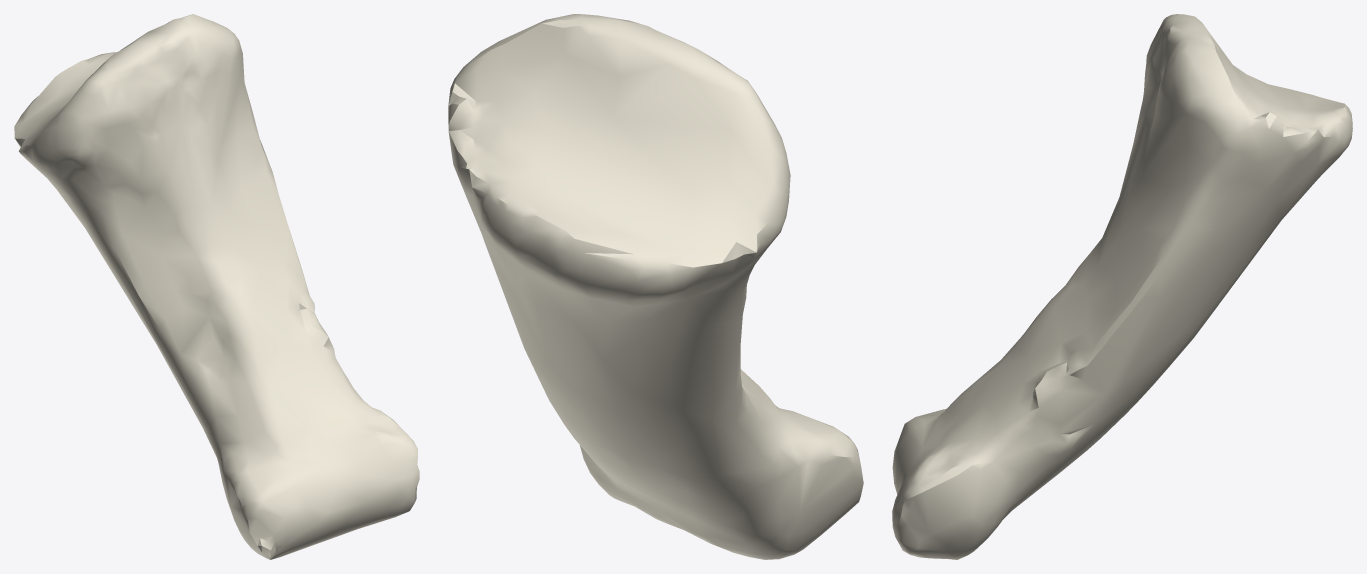
File: fma24458_mm1899.glb
3 views of the same model, side by side, from view 1: azimuth 30°, elevation 25°; view 2: azimuth 150°, elevation 25°; view 3: azimuth 270°, elevation 25° (orthographic). The views are drawn at different scales.
Visible parts, largest first — view 1: FMA24458_MM1899; view 2: FMA24458_MM1899; view 3: FMA24458_MM1899.
Part boxes in pixels (x1,y1,x2,y2): FMA24458_MM1899: (14, 14, 419, 559); FMA24458_MM1899: (448, 14, 863, 559); FMA24458_MM1899: (892, 14, 1352, 559).
Size of the model in its own units: 0.0117 by 0.0198 by 0.0168.
